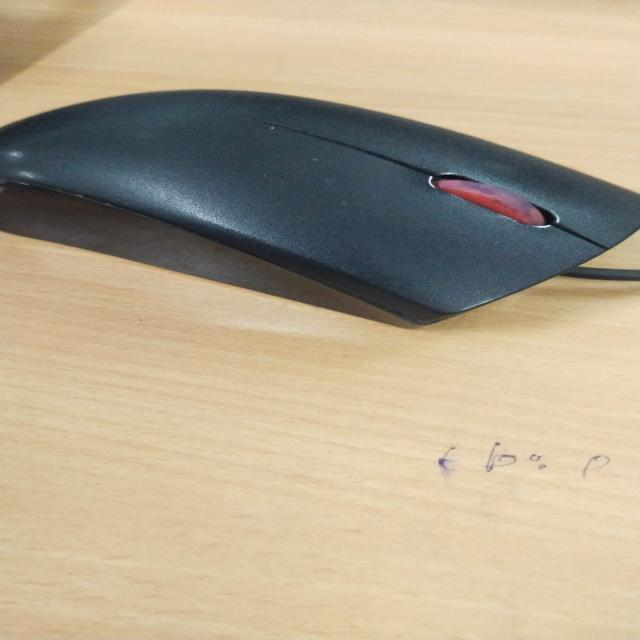Mouse: (36, 42, 624, 432)
